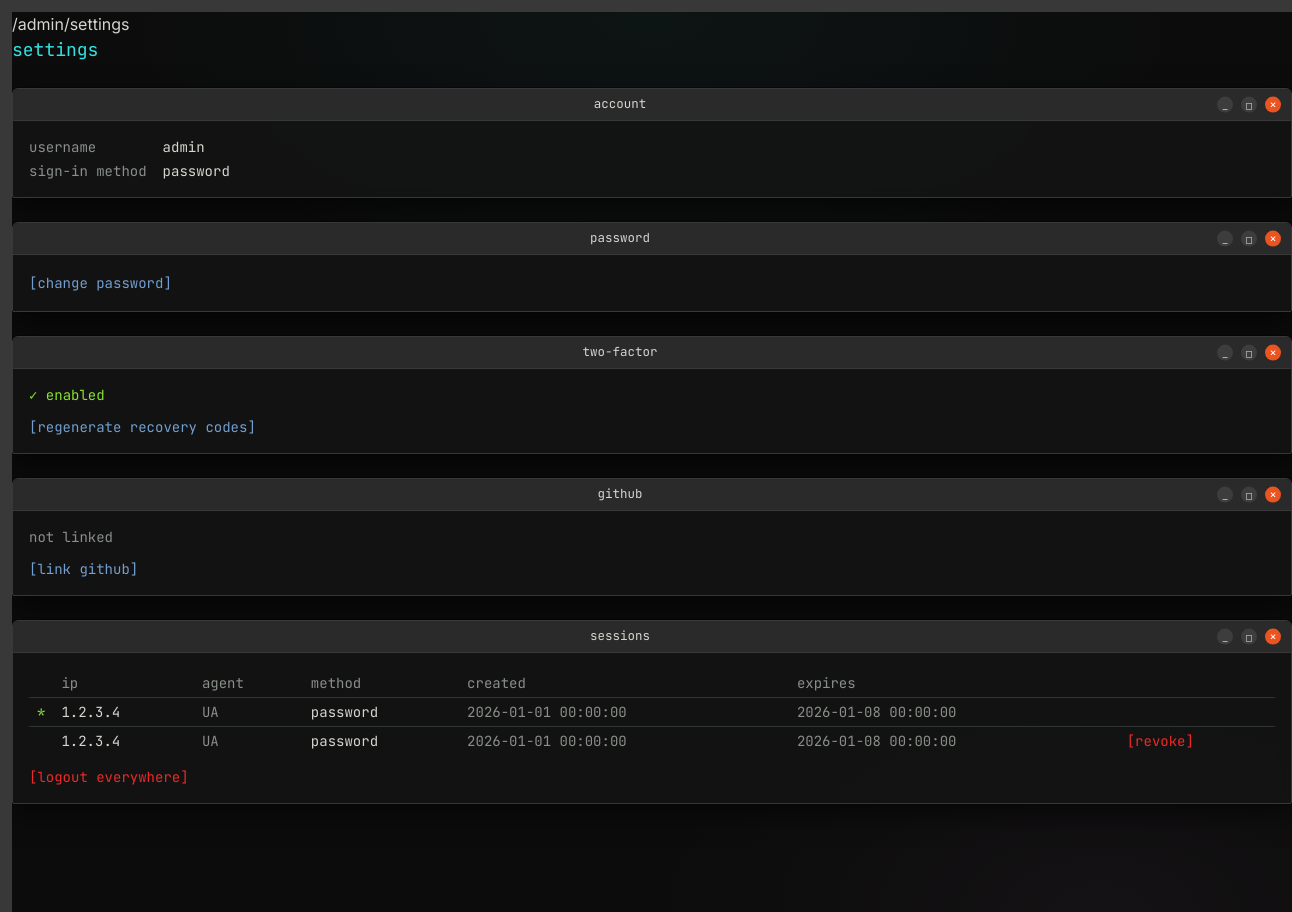
refuses to redirect to javascript:alert(1)
Click the button "[link github]" at (84, 569), box top-left (29, 559), bottom-right (138, 579)
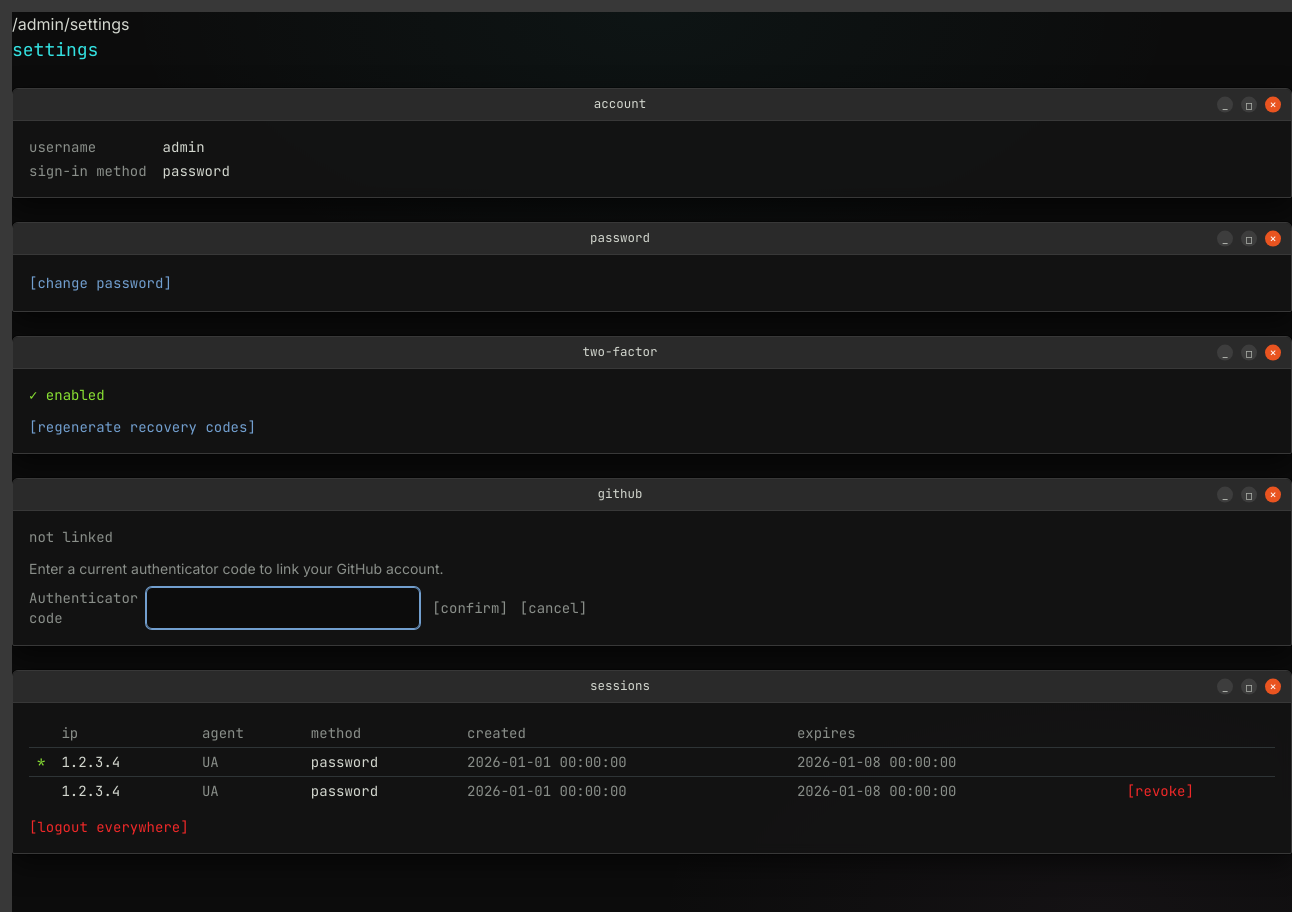
Type "123456" into the field labelled "Authenticator code" at (283, 608), box top-left (146, 587), bottom-right (420, 629)
Then press Enter
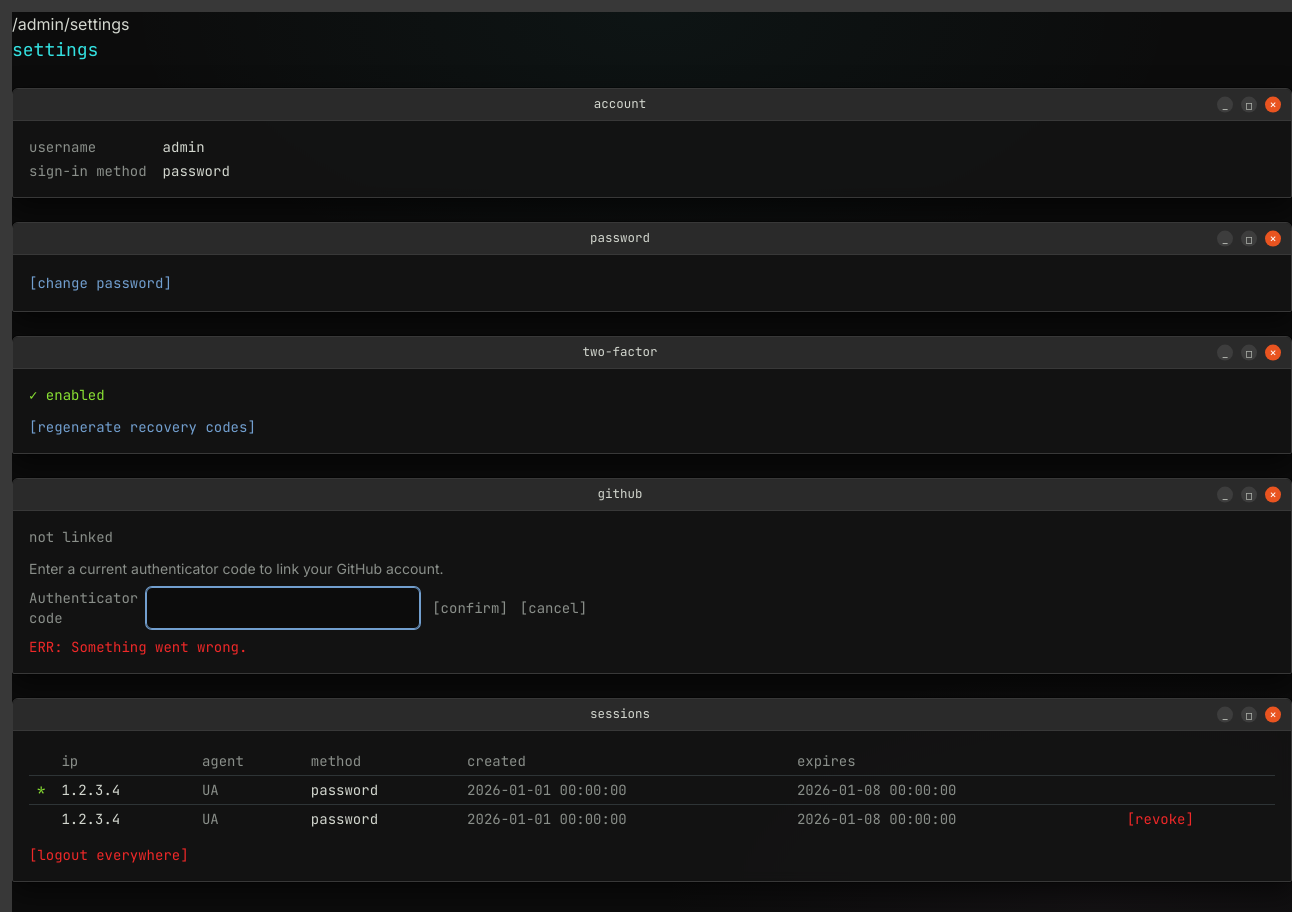
Check: the message shows "Something went wrong.", box top-left (71, 638), bottom-right (247, 656)
